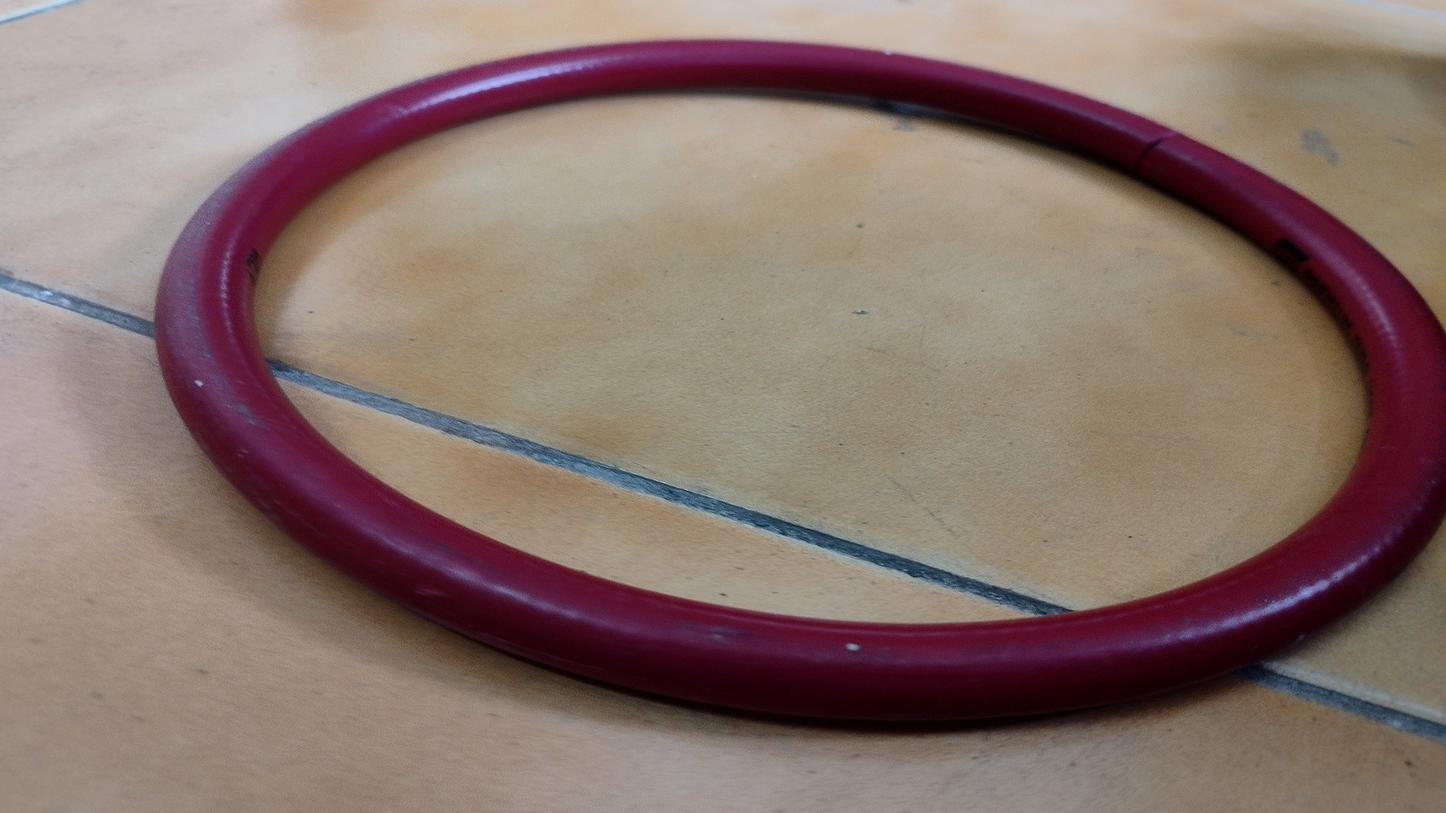Red ring: (156, 42, 1446, 720)
